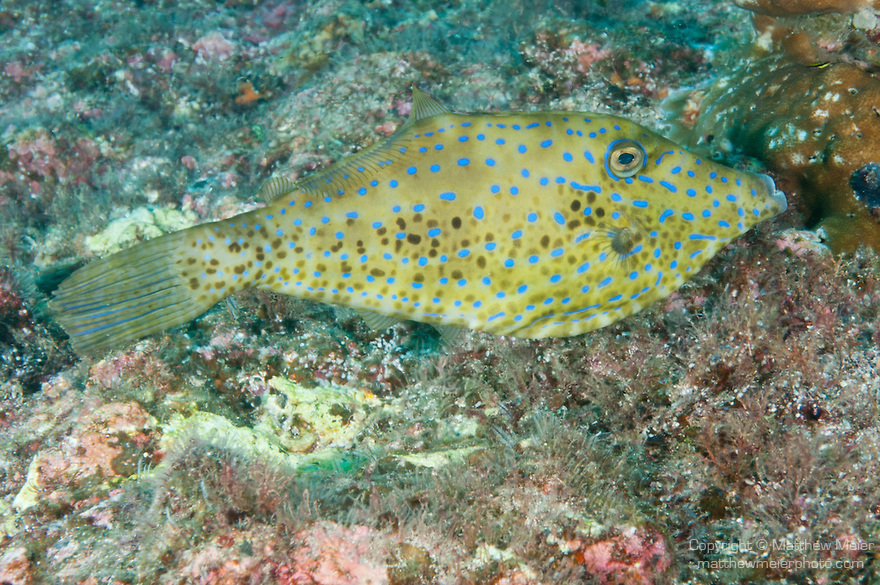Aluterus_scriptus: (36, 79, 788, 374)
